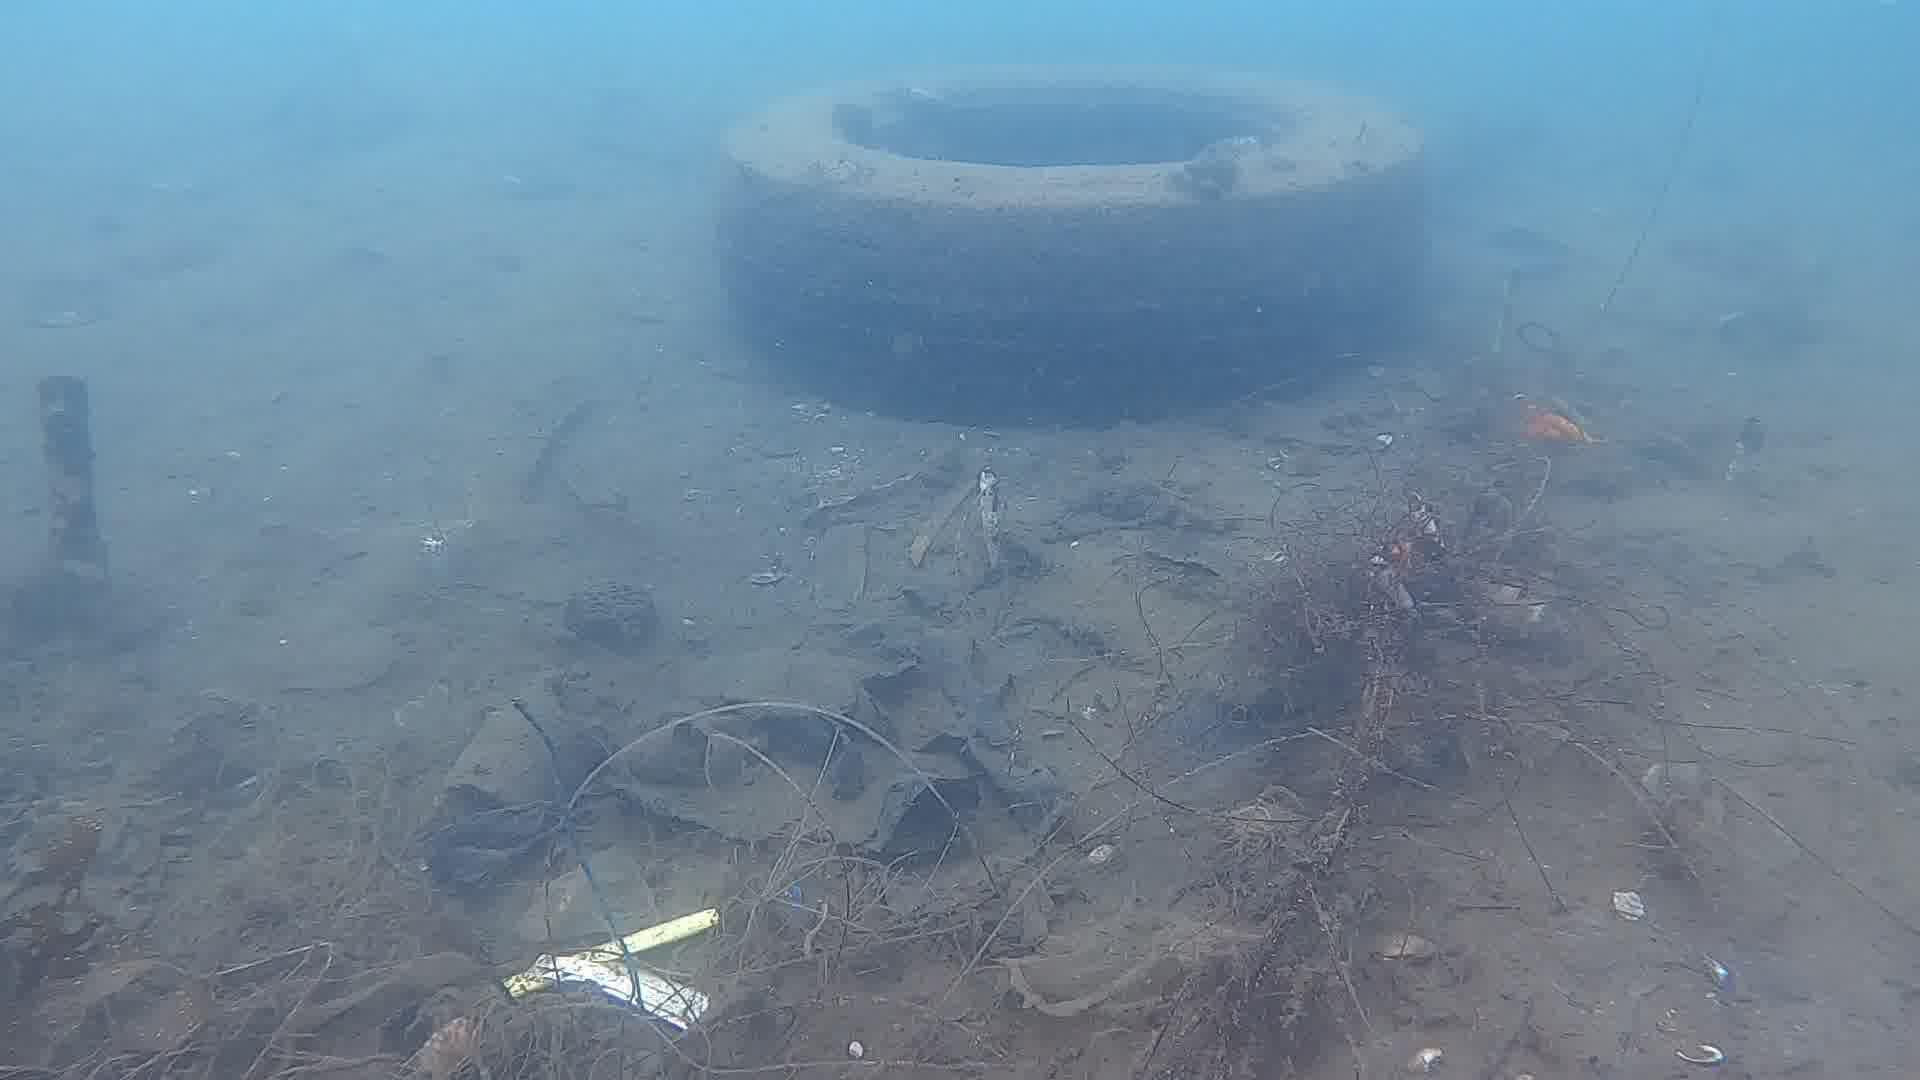tire: (709, 55, 1428, 429)
